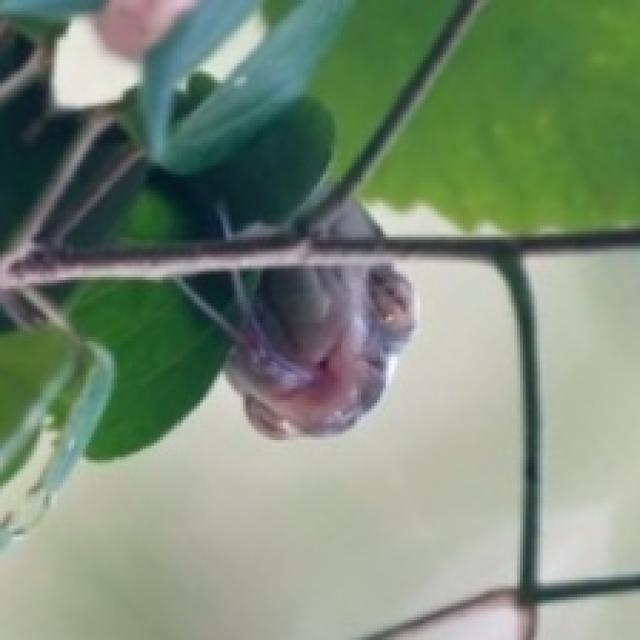dog-toothed cat snake: (226, 266, 415, 438), (320, 201, 379, 237)
